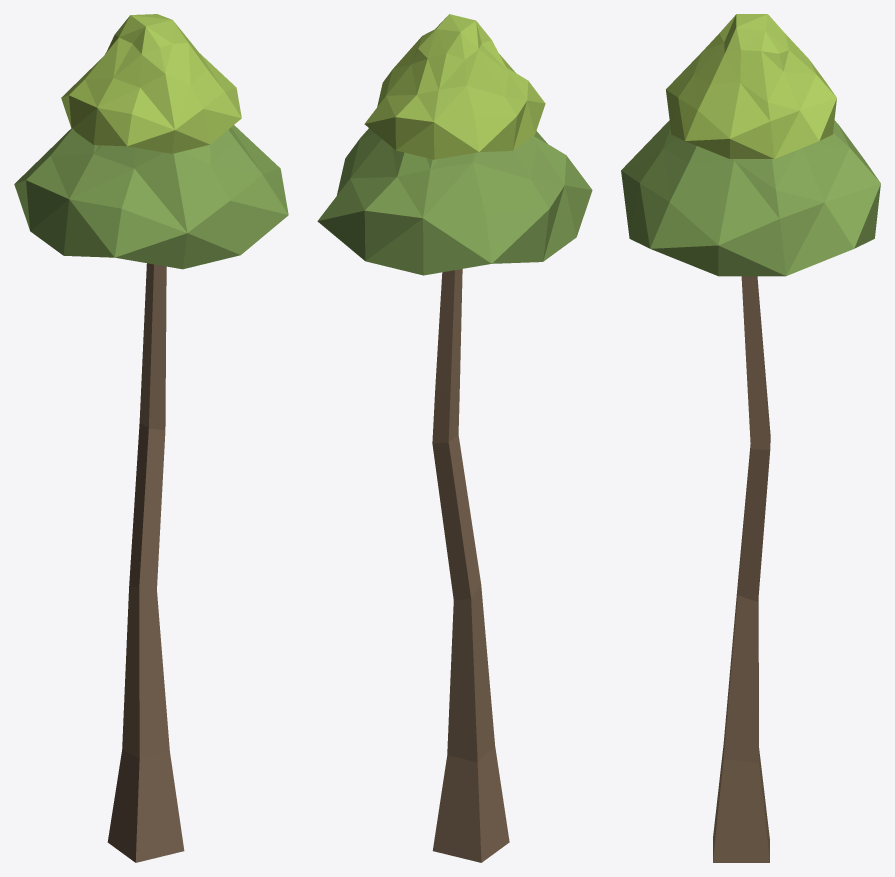
File: Tree_9.fbx
3 views of the same model, side by side, from view 1: azimuth 30°, elevation 25°; view 2: azimuth 150°, elevation 25°; view 3: azimuth 270°, elevation 25° (orthographic).
Parts seen in each view (by area): view 1: M_Tree 9; view 2: M_Tree 9; view 3: M_Tree 9.
Boxes of the visible parts, <box> form: M_Tree 9: <box>14,14,288,862</box>; M_Tree 9: <box>317,14,592,862</box>; M_Tree 9: <box>621,14,880,862</box>.
Size of the model in its own units: 62.93 by 222 by 62.69.
Materials: 1 (1 with a texture image).
